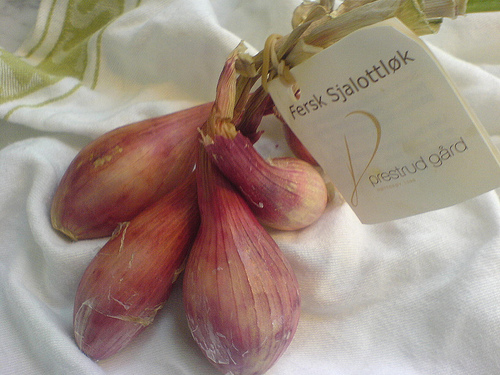onion: (48, 95, 272, 245), (174, 135, 312, 374), (72, 163, 199, 360)
